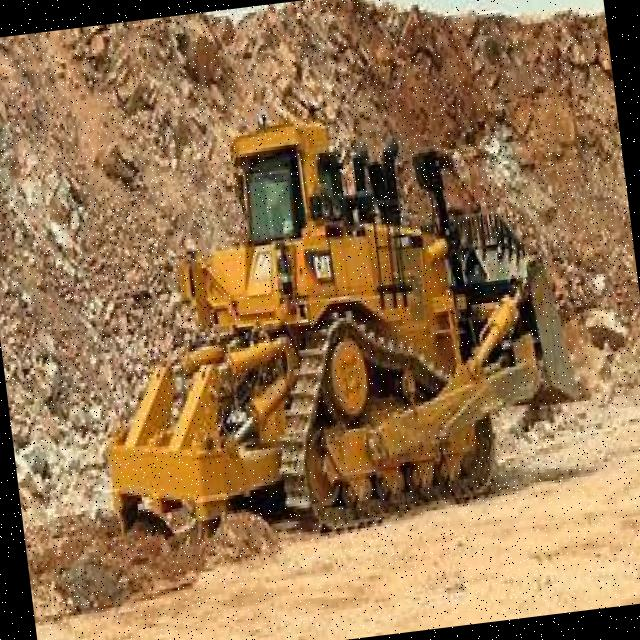Bulldozer: (50, 60, 610, 580)
